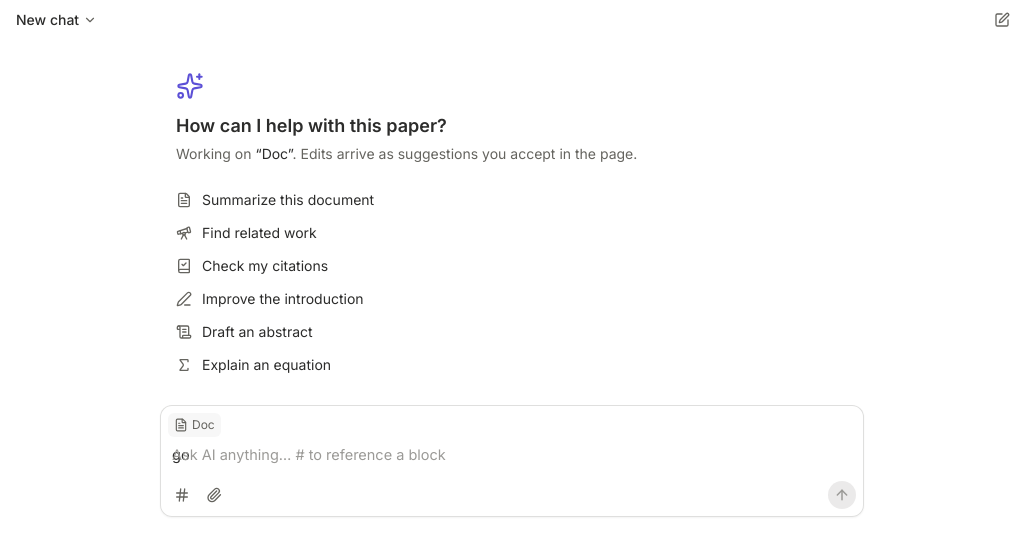
Test: the docked panel › keeps what a finished reply cost out of the answer, in the Copy tooltip
Clear the field: [181, 454] box [172,446,190,463]
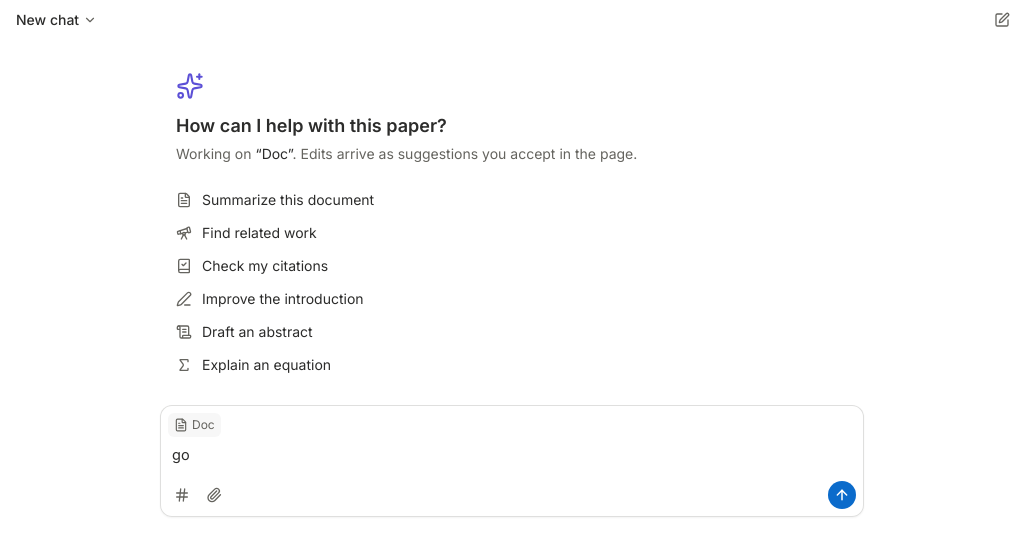
Click the button named "send message": [842, 495] box [828,481,856,509]
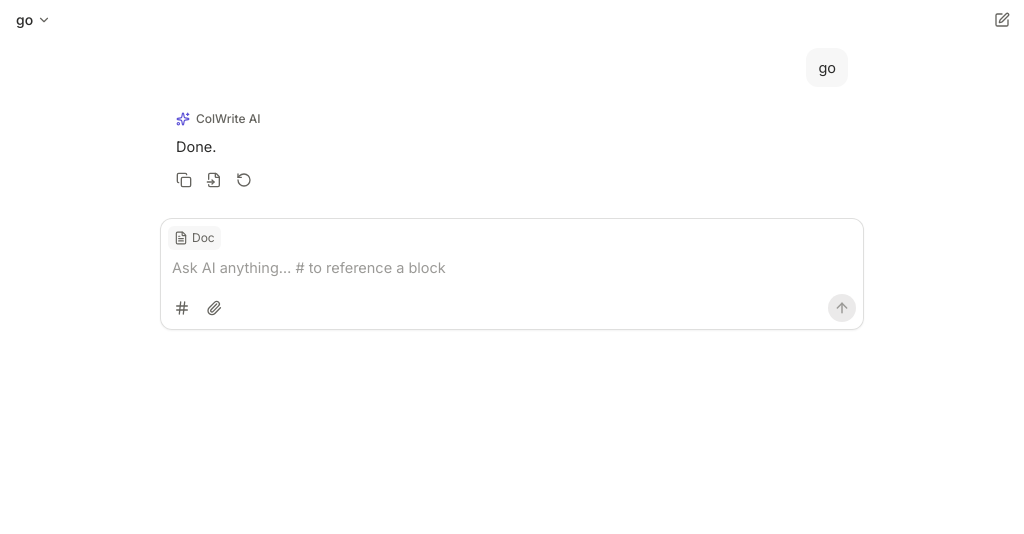
Expected: the text "12.4k tokens in · 890 out" is not shown
Result: the button named "Insert into page" is shown at [200,166,228,194]
Focus the button named "Copy": [184, 180] box [170,166,198,194]
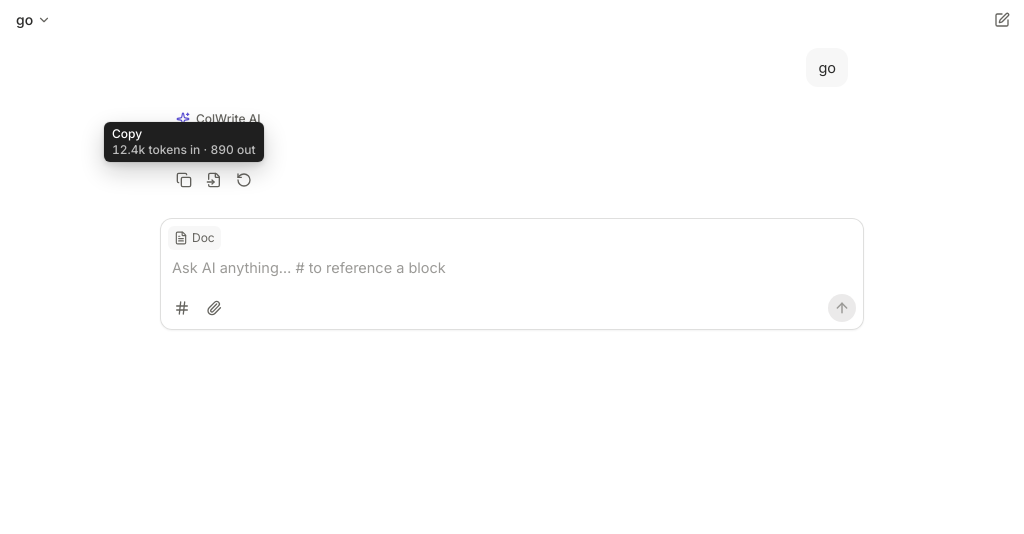
Result: the text "12.4k tokens in · 890 out" is shown at [112,142,256,158]
